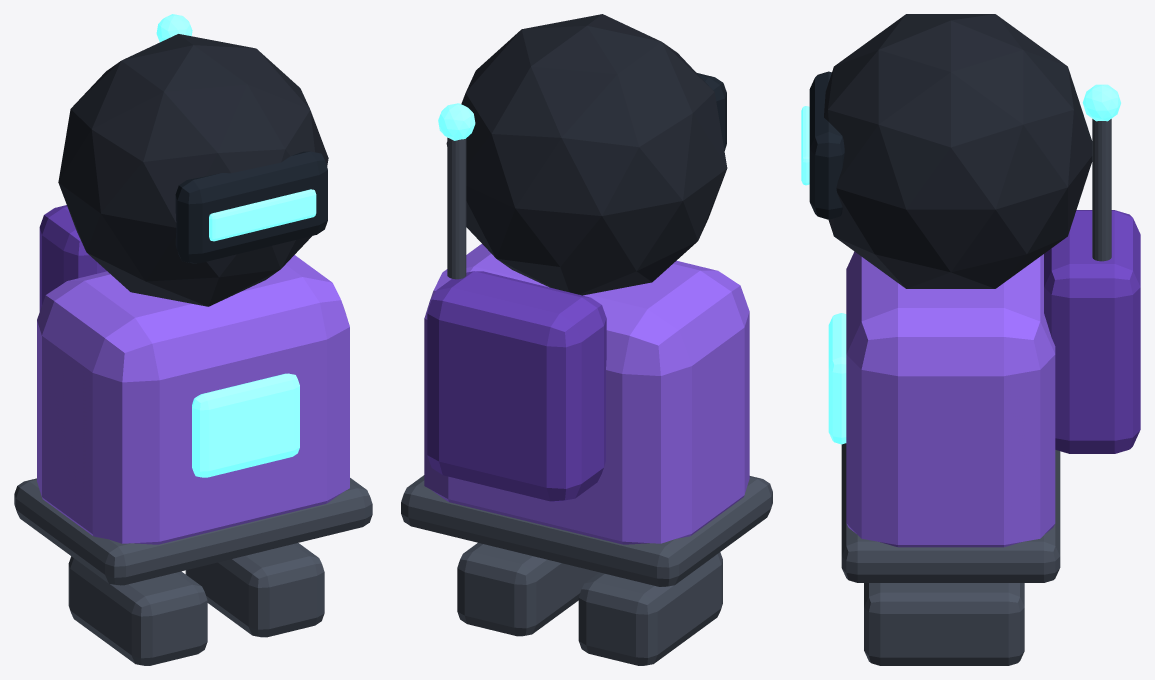
File: player_violet.glb
3 views of the same model, side by side, from view 1: azimuth 30°, elevation 25°; view 2: azimuth 150°, elevation 25°; view 3: azimuth 270°, elevation 25° (orthographic). The views are drawn at different scales.
Visible parts, largest first — view 1: player_violet; view 2: player_violet; view 3: player_violet.
Part boxes in pixels (x1,y1,x2,y2): player_violet: (14, 14, 372, 665); player_violet: (401, 14, 772, 665); player_violet: (801, 14, 1140, 665).
Bounding box in the file's own units: 1 × 2.07 × 1.05.
